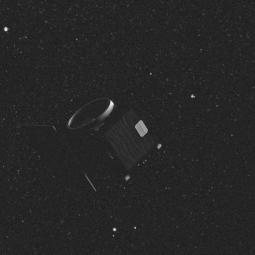proba_3_csc: (33, 93, 165, 199)
